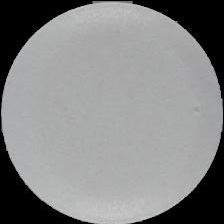64125-138: (0, 0, 224, 224)
